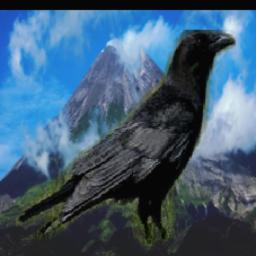Crow: (17, 30, 237, 246)
